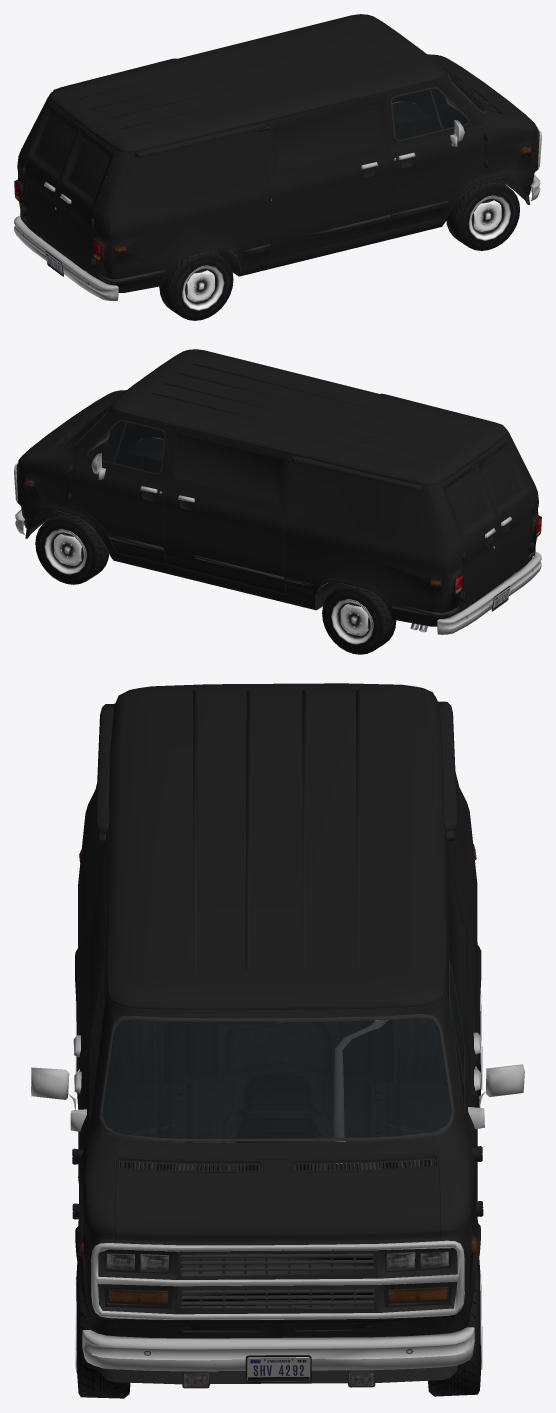
The model's file is van_lod.gltf.
3 views of the same model, one above another, from view 1: azimuth 30°, elevation 25°; view 2: azimuth 150°, elevation 25°; view 3: azimuth 270°, elevation 25° (orthographic). The views are drawn at different scales.
Visible parts, largest first — view 1: Shvan92_Body_Shvan92_bodymat_0, Shvan92_Bottom_UCB_BOTTOM_0, Shvan92_WheelStock_FR_RB1c_Tire_1k_0, Shvan92_WheelStock_RL_RB1c_Tire_1k_0, Shvan92_Bumper_rear_UCB_BOTTOM_0, Shvan92_Glass_Passanger_UCB_Lights_and_Glass_Transperent_0, Shvan92_Hood_Shvan92_bodymat_0, Shvan92_Body_glass_UCB_Lights_and_Glass_Transperent_0; view 2: Shvan92_Body_Shvan92_bodymat_0, Shvan92_Bottom_UCB_BOTTOM_0, Shvan92_WheelStock_FL_RB1c_Tire_1k_0, Shvan92_WheelStock_RL_RB1c_Tire_1k_0, Shvan92_Bumper_rear_UCB_BOTTOM_0, Shvan92_Glass_Driver_UCB_Lights_and_Glass_Transperent_0, Shvan92_Hood_Shvan92_bodymat_0, Shvan92_Body_glass_UCB_Lights_and_Glass_Transperent_0; view 3: Shvan92_Body_Shvan92_bodymat_0, Shvan92_Bottom_UCB_BOTTOM_0, Shvan92_Windshield_UCB_Lights_and_Glass_Transperent_0, Shvan92_Hood_Shvan92_bodymat_0, Shvan92_Bumper_front_UCB_BOTTOM_0, Shvan92_Headlights_Glass_UCB_Lights_and_Glass_Transperent_0, Shvan92_WheelStock_FL_RB1c_Tire_1k_0, Shvan92_WheelStock_FR_RB1c_Tire_1k_0, Shvan92_Headlights_UCB_Lights_and_Glass_0, Shvan92_Numberplate_front_Numberplates_Misk_U_0, Shvan92_Blinkers_UCB_Lights_and_Glass_0.
Boxes of the visible parts, bbox=[...] form: Shvan92_Body_Shvan92_bodymat_0: bbox=[16, 14, 539, 292]; Shvan92_Bottom_UCB_BOTTOM_0: bbox=[20, 53, 541, 283]; Shvan92_WheelStock_FR_RB1c_Tire_1k_0: bbox=[446, 178, 519, 250]; Shvan92_WheelStock_RL_RB1c_Tire_1k_0: bbox=[159, 250, 233, 320]; Shvan92_Bumper_rear_UCB_BOTTOM_0: bbox=[14, 215, 118, 300]; Shvan92_Glass_Passanger_UCB_Lights_and_Glass_Transperent_0: bbox=[392, 90, 441, 139]; Shvan92_Hood_Shvan92_bodymat_0: bbox=[430, 56, 535, 124]; Shvan92_Body_glass_UCB_Lights_and_Glass_Transperent_0: bbox=[430, 89, 467, 129]; Shvan92_Body_Shvan92_bodymat_0: bbox=[16, 349, 539, 626]; Shvan92_Bottom_UCB_BOTTOM_0: bbox=[14, 405, 535, 632]; Shvan92_WheelStock_FL_RB1c_Tire_1k_0: bbox=[35, 511, 108, 584]; Shvan92_WheelStock_RL_RB1c_Tire_1k_0: bbox=[322, 584, 396, 654]; Shvan92_Bumper_rear_UCB_BOTTOM_0: bbox=[437, 552, 541, 634]; Shvan92_Glass_Driver_UCB_Lights_and_Glass_Transperent_0: bbox=[114, 423, 163, 472]; Shvan92_Hood_Shvan92_bodymat_0: bbox=[23, 392, 123, 454]; Shvan92_Body_glass_UCB_Lights_and_Glass_Transperent_0: bbox=[88, 422, 125, 462]; Shvan92_Body_Shvan92_bodymat_0: bbox=[72, 683, 483, 1338]; Shvan92_Bottom_UCB_BOTTOM_0: bbox=[31, 844, 524, 1388]; Shvan92_Windshield_UCB_Lights_and_Glass_Transperent_0: bbox=[102, 1018, 451, 1138]; Shvan92_Hood_Shvan92_bodymat_0: bbox=[114, 1167, 440, 1245]; Shvan92_Bumper_front_UCB_BOTTOM_0: bbox=[82, 1327, 474, 1382]; Shvan92_Headlights_Glass_UCB_Lights_and_Glass_Transperent_0: bbox=[106, 1252, 448, 1304]; Shvan92_WheelStock_FL_RB1c_Tire_1k_0: bbox=[428, 1258, 482, 1396]; Shvan92_WheelStock_FR_RB1c_Tire_1k_0: bbox=[75, 1263, 130, 1398]; Shvan92_Headlights_UCB_Lights_and_Glass_0: bbox=[106, 1252, 447, 1269]; Shvan92_Numberplate_front_Numberplates_Misk_U_0: bbox=[247, 1357, 310, 1381]; Shvan92_Blinkers_UCB_Lights_and_Glass_0: bbox=[108, 1287, 447, 1304].
Size of the model in its own units: 4.9 by 1.93 by 2.34.
Materials: 6 (5 with a texture image).
